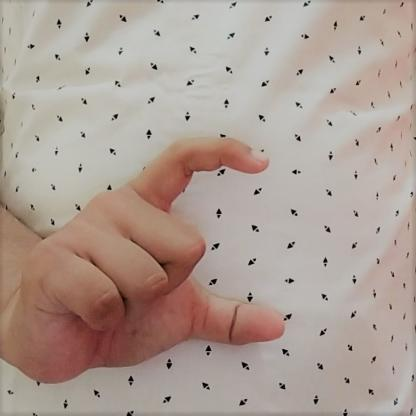C: (13, 130, 289, 401)
